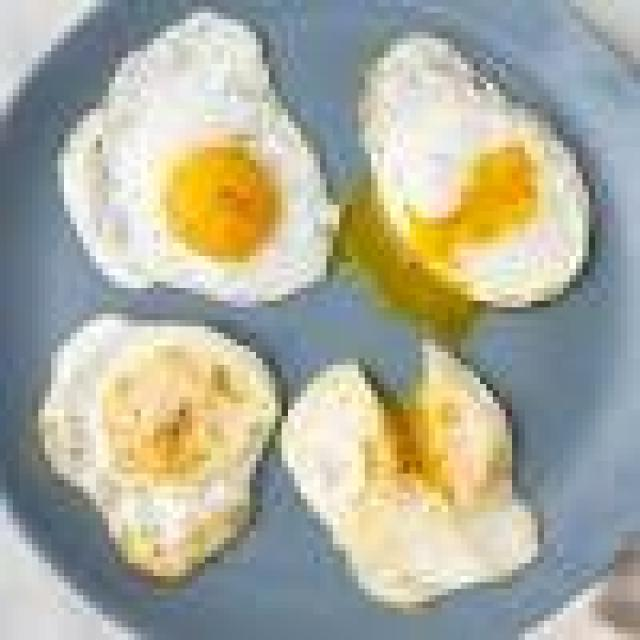Egg: (61, 12, 335, 303), (281, 340, 539, 607), (359, 32, 590, 306), (39, 315, 279, 578)
